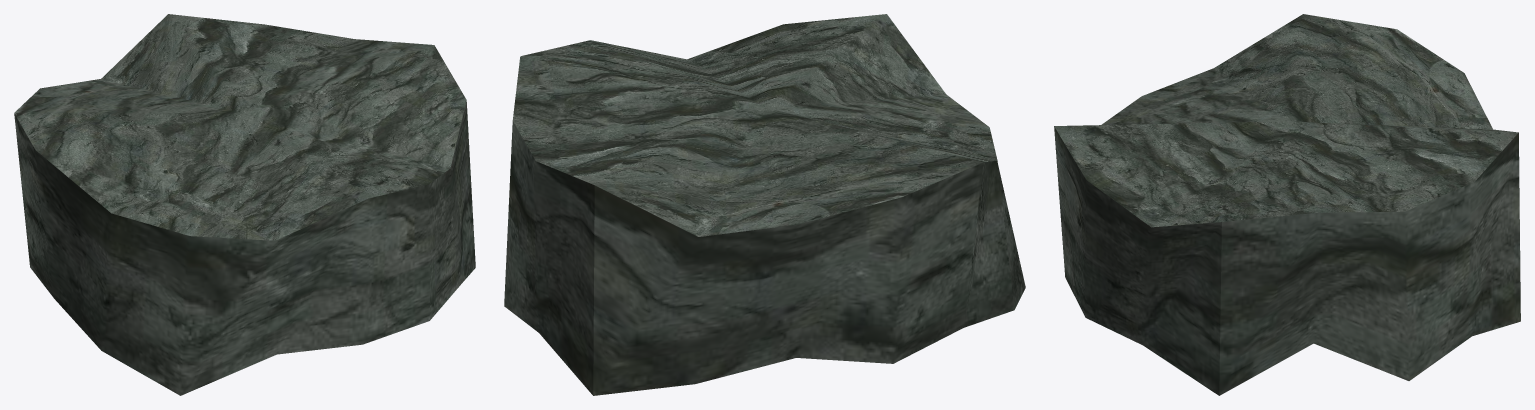
Rendered from rock_4.glb.
3 views of the same model, side by side, from view 1: azimuth 30°, elevation 25°; view 2: azimuth 150°, elevation 25°; view 3: azimuth 270°, elevation 25° (orthographic). The views are drawn at different scales.
Parts seen in each view (by area): view 1: 4-512 (×2); view 2: 4-512 (×2); view 3: 4-512 (×2).
Part boxes in pixels (x1,y1,x2,y2): 4-512 (×2): (14, 14, 475, 395); 4-512 (×2): (504, 14, 1025, 395); 4-512 (×2): (1054, 14, 1520, 395).
Bounding box in the file's own units: 10.8 × 4.9 × 10.66.
1 material, 1 textured.
